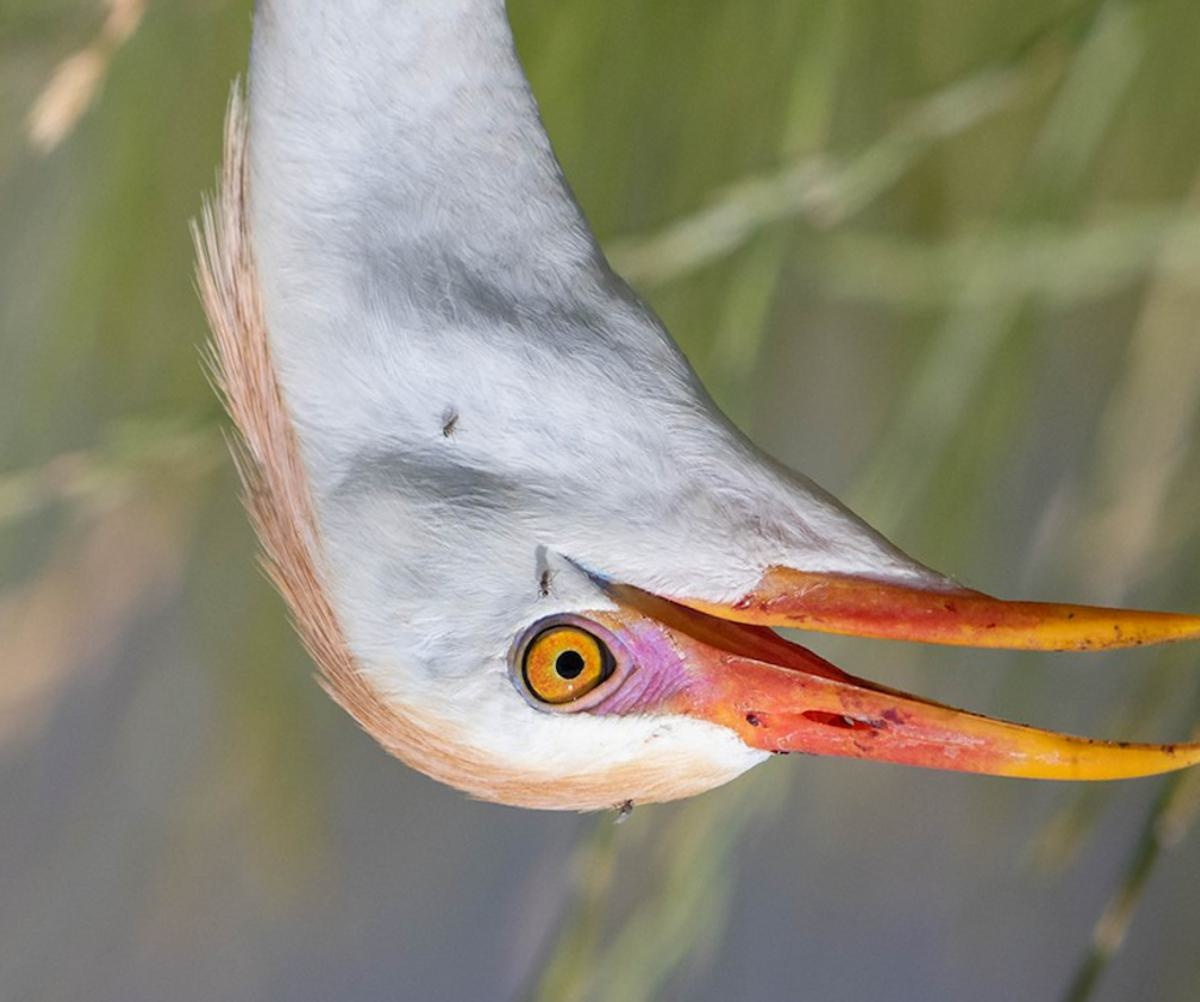egret: (175, 1, 1198, 845)
